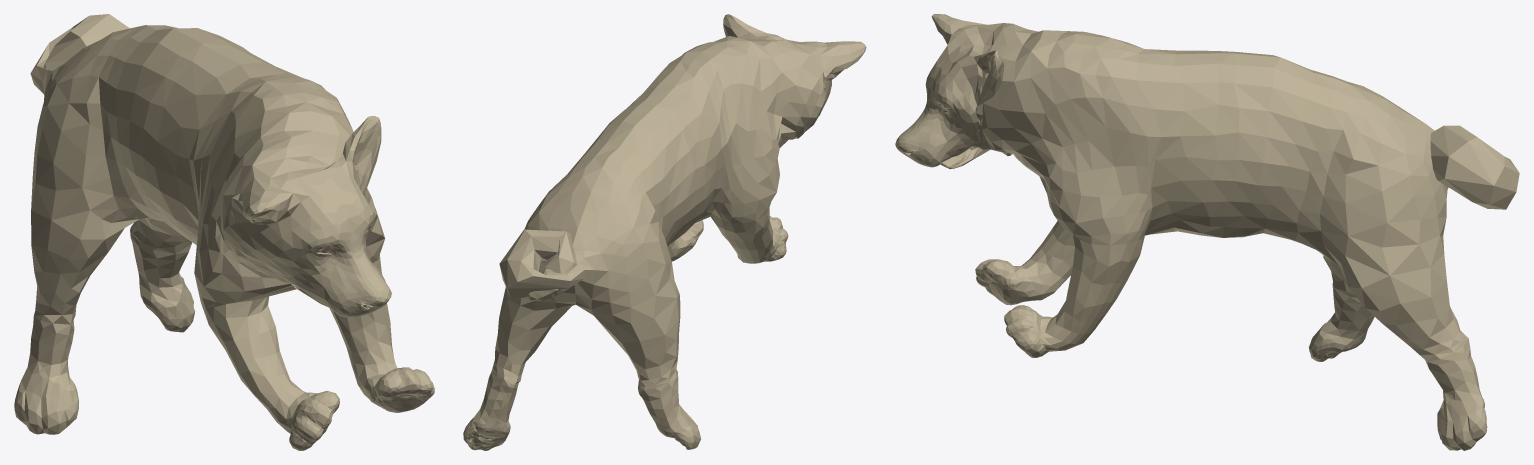
3 views of the same model, side by side, from view 1: azimuth 30°, elevation 25°; view 2: azimuth 150°, elevation 25°; view 3: azimuth 270°, elevation 25° (orthographic). The views are drawn at different scales.
Visible parts, largest first — view 1: world; view 2: world; view 3: world.
Part boxes in pixels (x1,y1,x2,y2): world: [14, 14, 434, 450]; world: [463, 14, 866, 450]; world: [895, 14, 1519, 450].
Size of the model in its own units: 0.4769 by 0.7895 by 1.21.
